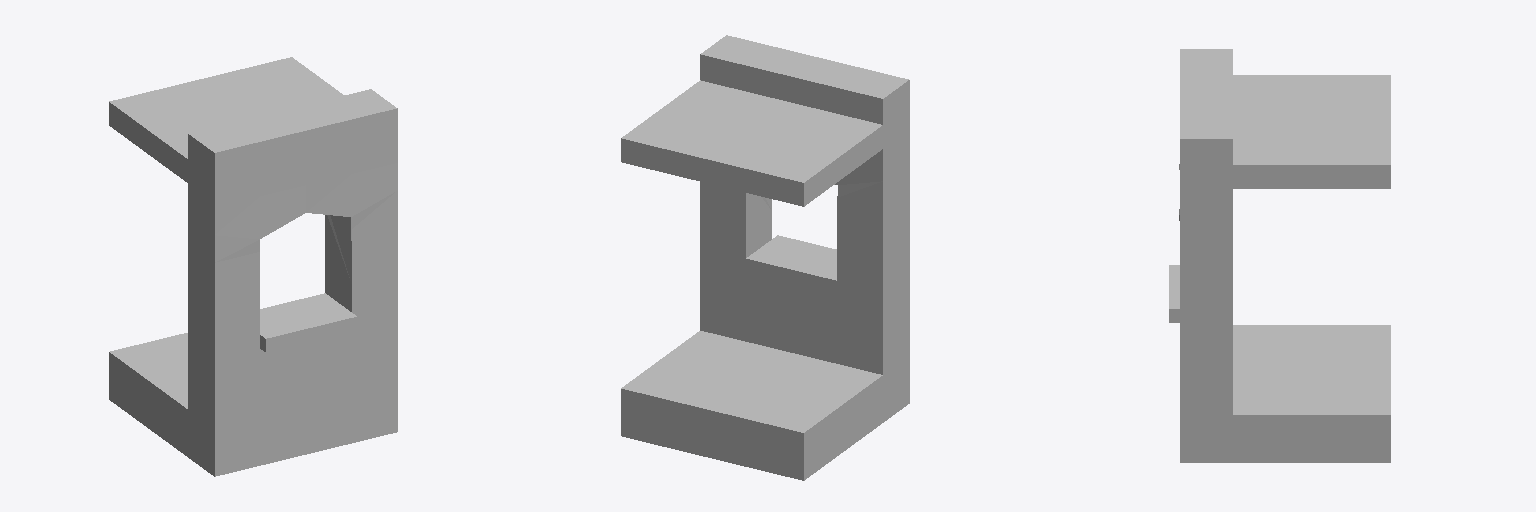
File: Wall.obj
3 views of the same model, side by side, from view 1: azimuth 30°, elevation 25°; view 2: azimuth 150°, elevation 25°; view 3: azimuth 270°, elevation 25° (orthographic).
Parts seen in each view (by area): view 1: Cube.001; view 2: Cube.001; view 3: Cube.001.
Boxes of the visible parts, box(x1,y1,x2,y2) form: Cube.001: box(109, 57, 397, 476); Cube.001: box(621, 35, 909, 480); Cube.001: box(1169, 49, 1390, 462).
Size of the model in its own units: 4 by 6.77 by 4.21.